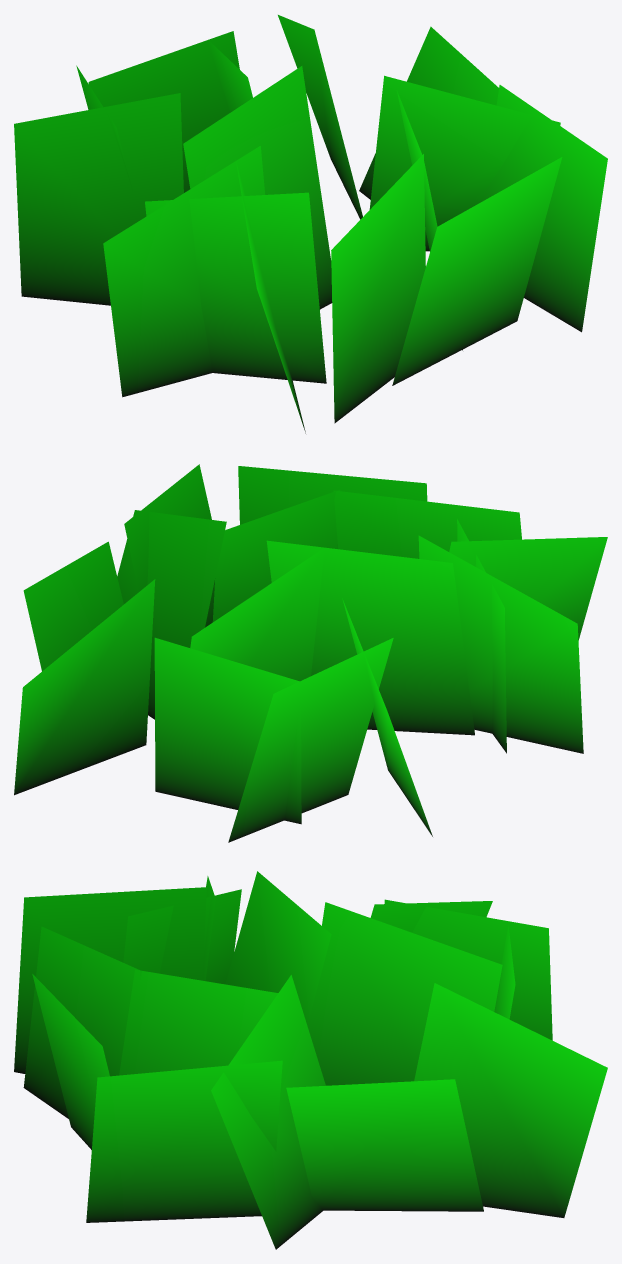
File: fixed grass_01.fbx
3 views of the same model, one above another, from view 1: azimuth 30°, elevation 25°; view 2: azimuth 150°, elevation 25°; view 3: azimuth 270°, elevation 25° (orthographic). The views are drawn at different scales.
Visible parts, largest first — view 1: IL3DN_Plant_Grass_02; view 2: IL3DN_Plant_Grass_02; view 3: IL3DN_Plant_Grass_02.
Part boxes in pixels (left/top/right/bottom): IL3DN_Plant_Grass_02: left=14, top=15, right=607, bottom=433; IL3DN_Plant_Grass_02: left=14, top=464, right=607, bottom=842; IL3DN_Plant_Grass_02: left=14, top=871, right=607, bottom=1249.
Bounding box in the file's own units: 188 × 83.49 × 206.
